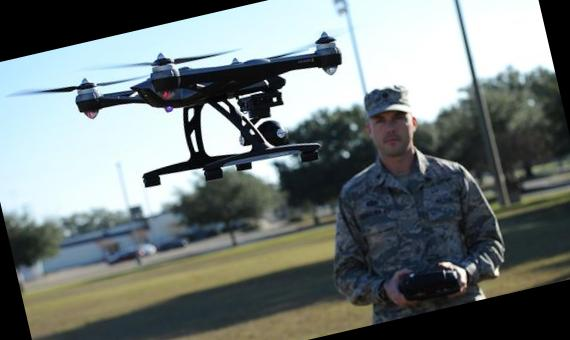drone: (0, 0, 394, 231)
